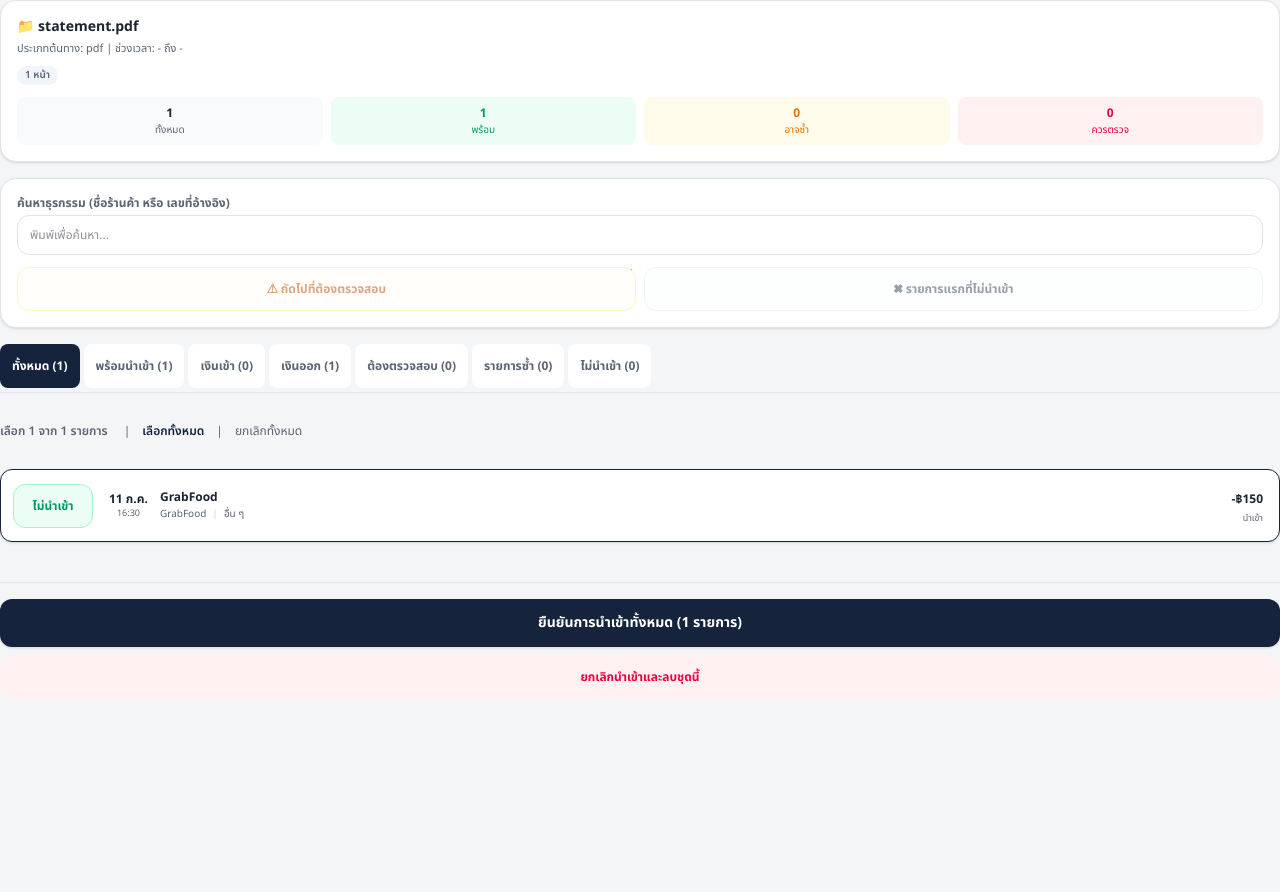
Test case: History Import Review Selection Model › renders collapsed rows by default and expands them inline on body click
Click the button with id "row-body-row-1": (128,499) [105,482,1267,529]
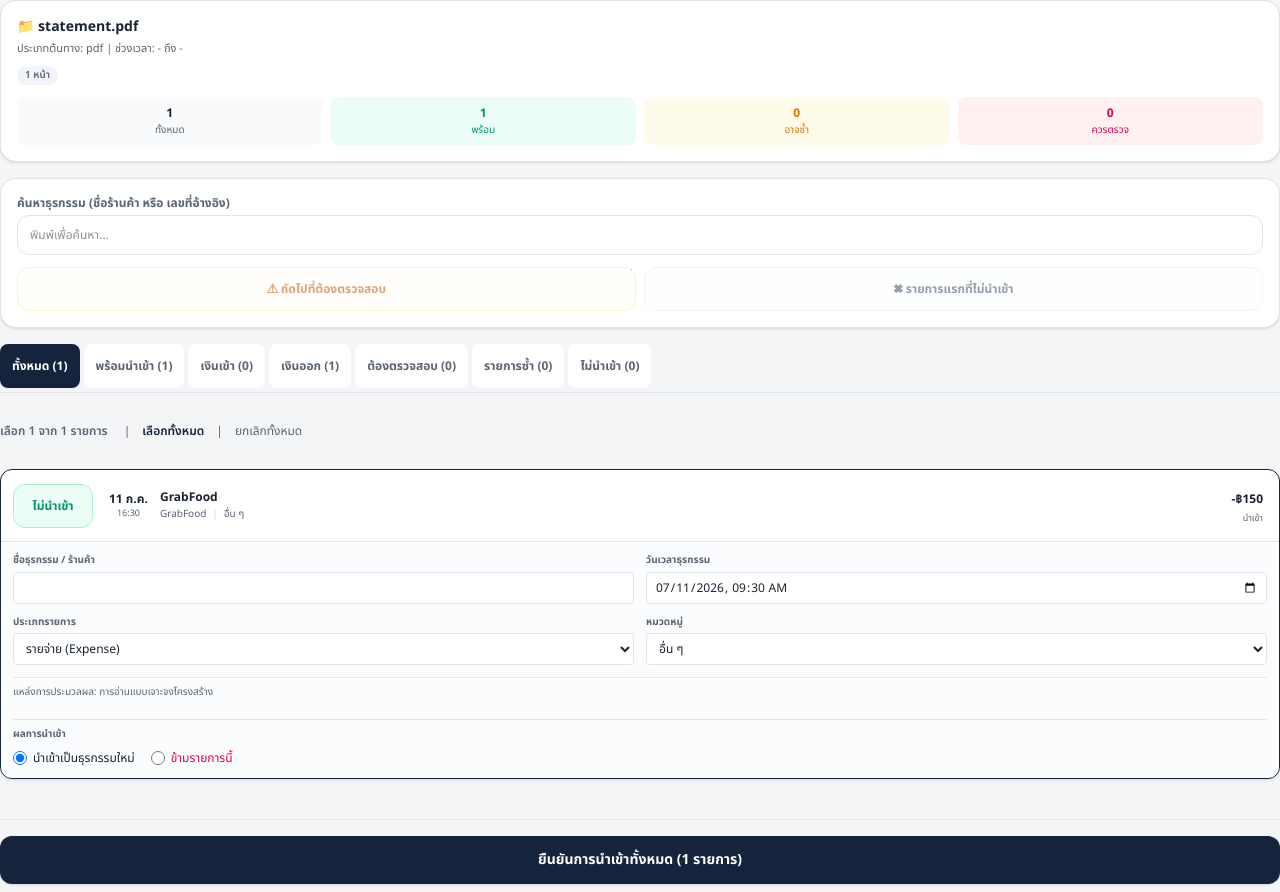
Expected: the element with id "edit-form-row-1" is shown, [1,541,1279,778]
